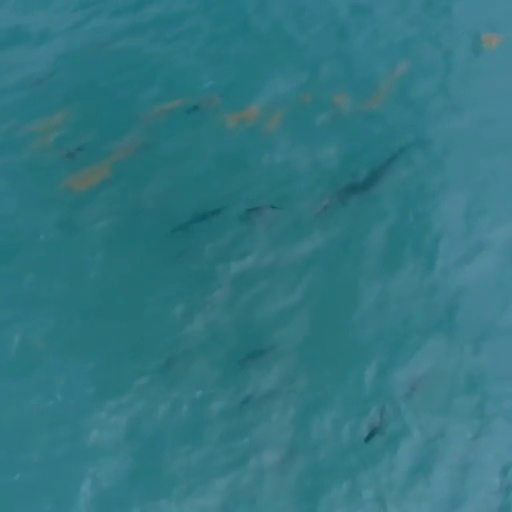shark: (332, 136, 421, 210)
